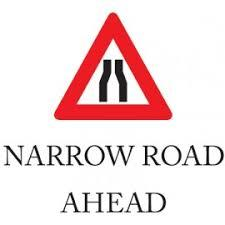narrow_road: (48, 9, 183, 124)
